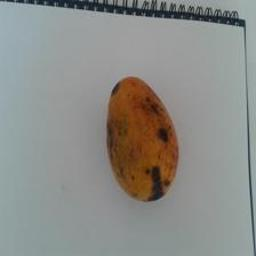Mango Semirotten: (93, 68, 185, 207)
